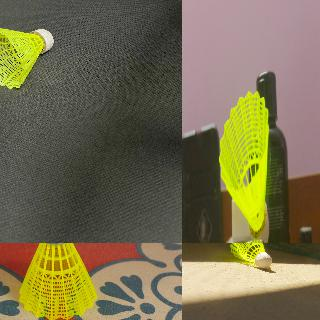shuttlecock: (218, 91, 268, 242), (17, 243, 97, 319), (0, 25, 54, 90), (229, 243, 272, 269)
